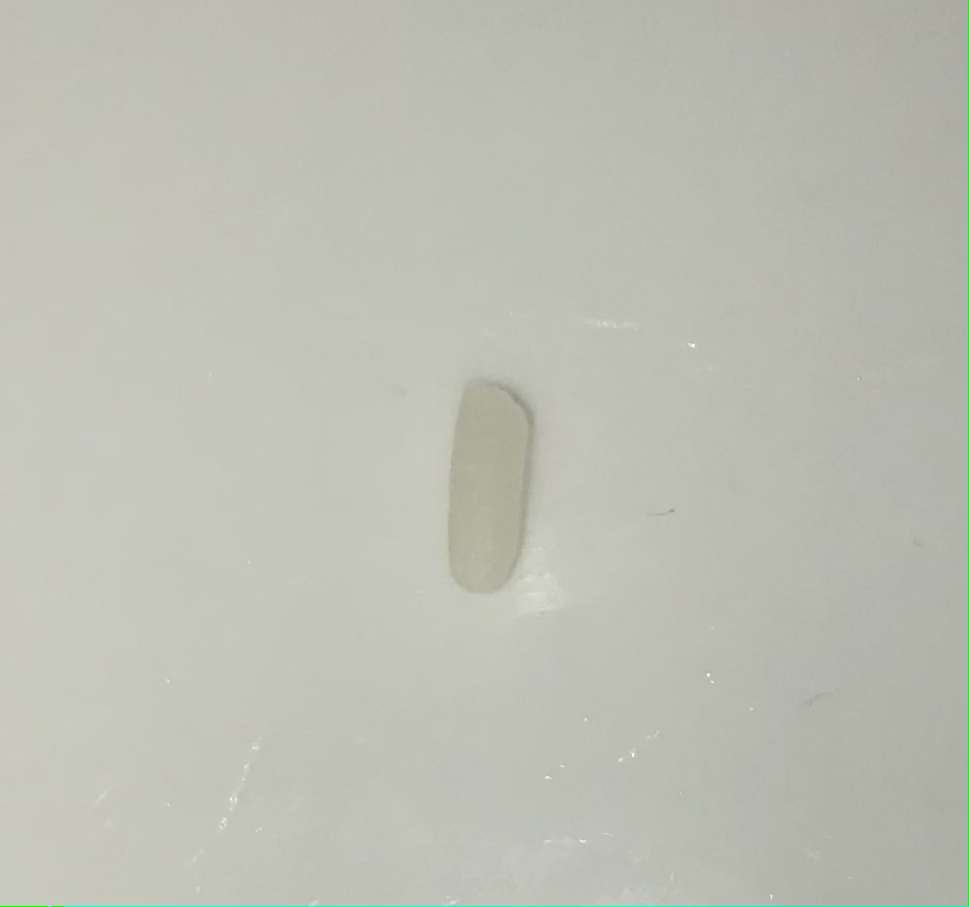Gao Thom Go Cong: (431, 352, 539, 599)
